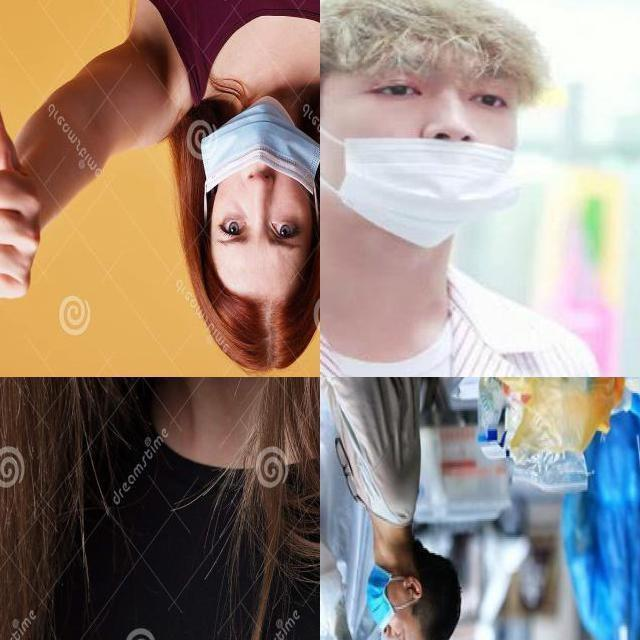hairnet: (321, 56, 517, 244), (197, 96, 321, 214), (349, 555, 408, 639)
no_gloves: (320, 0, 547, 114), (185, 232, 324, 376), (403, 536, 465, 640)
